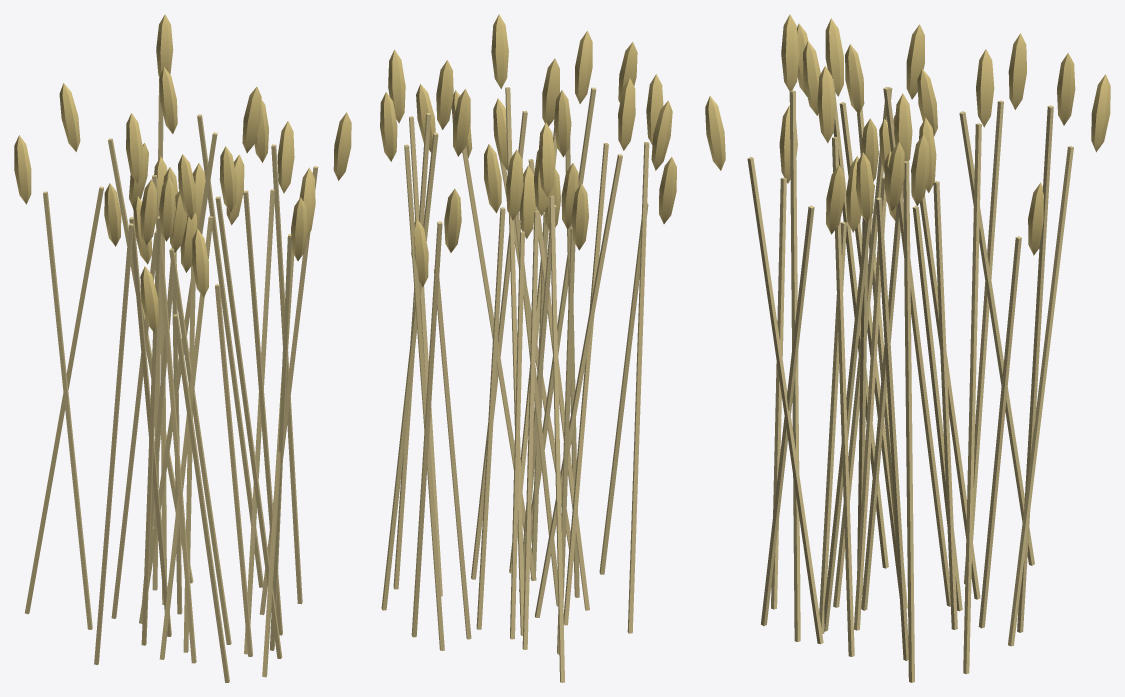
The model's file is SM_Wheat.fbx.
3 renders of one model, left to right at view 1: azimuth 30°, elevation 25°; view 2: azimuth 150°, elevation 25°; view 3: azimuth 270°, elevation 25°, orthographic. The views are drawn at different scales.
Parts seen in each view (by area): view 1: SM_Wheat; view 2: SM_Wheat; view 3: SM_Wheat.
Part boxes in pixels (left/top/right/bottom): SM_Wheat: left=14, top=14, right=351, bottom=682; SM_Wheat: left=380, top=14, right=676, bottom=682; SM_Wheat: left=705, top=14, right=1110, bottom=682.
Bounding box in the file's own units: 63.89 × 129 × 79.17.
